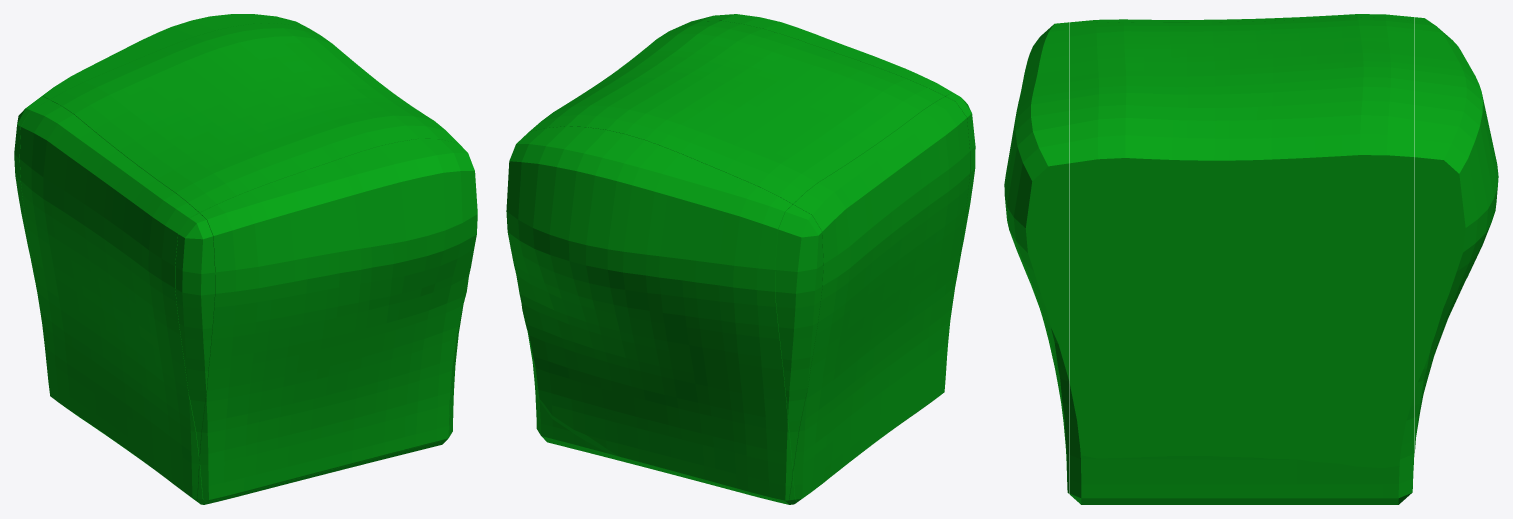
Rendered from 4by10beveledsubdivided.024.fbx.
The picture shows the model from 3 angles, left to right: view 1: azimuth 30°, elevation 25°; view 2: azimuth 150°, elevation 25°; view 3: azimuth 270°, elevation 25°; orthographic projection. The views are drawn at different scales.
Visible parts, largest first — view 1: 4by10beveledsubdivided.024; view 2: 4by10beveledsubdivided.024; view 3: 4by10beveledsubdivided.024.
Part boxes in pixels (<box>): 4by10beveledsubdivided.024: <box>14,14,477,504</box>; 4by10beveledsubdivided.024: <box>506,14,975,504</box>; 4by10beveledsubdivided.024: <box>1004,14,1498,504</box>.
Size of the model in its own units: 224 by 245 by 287.
